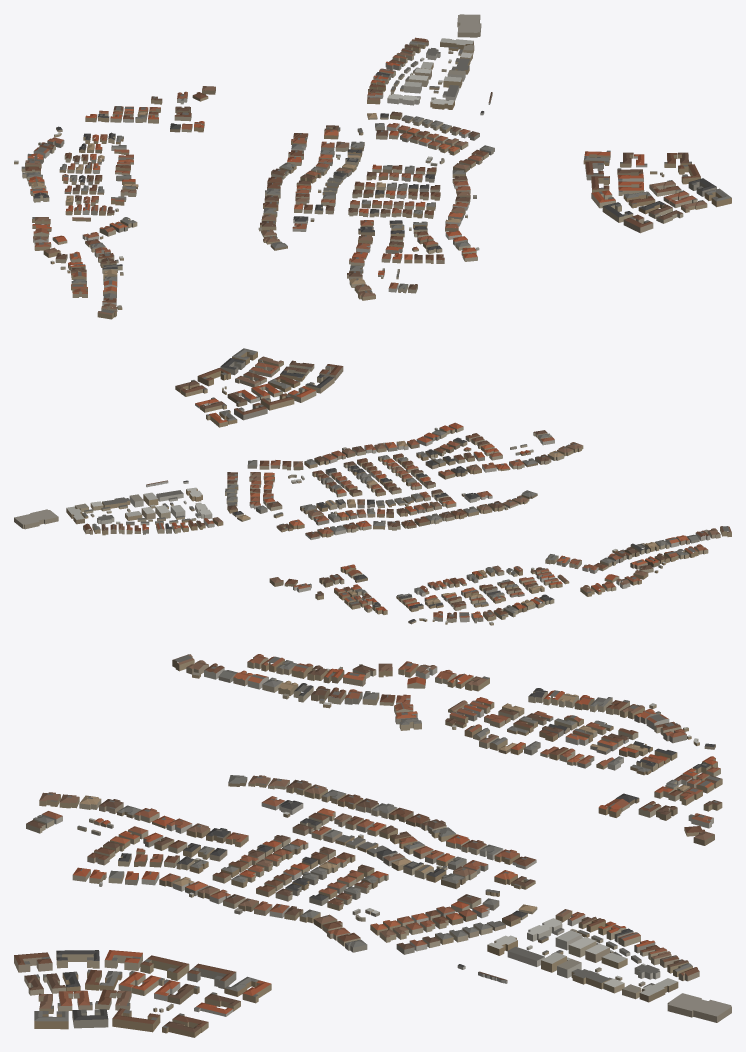
3 views of the same model, one above another, from view 1: azimuth 30°, elevation 25°; view 2: azimuth 150°, elevation 25°; view 3: azimuth 270°, elevation 25° (orthographic). The views are drawn at different scales.
Parts seen in each view (by area): view 1: buildings_r4_c3_lod1; view 2: buildings_r4_c3_lod1; view 3: buildings_r4_c3_lod1.
Boxes of the visible parts, x1,y1,x2,y2 form: buildings_r4_c3_lod1: [14, 14, 731, 319]; buildings_r4_c3_lod1: [14, 348, 731, 625]; buildings_r4_c3_lod1: [14, 654, 731, 1037].
Size of the model in its own units: 1082 by 37.8 by 826.
